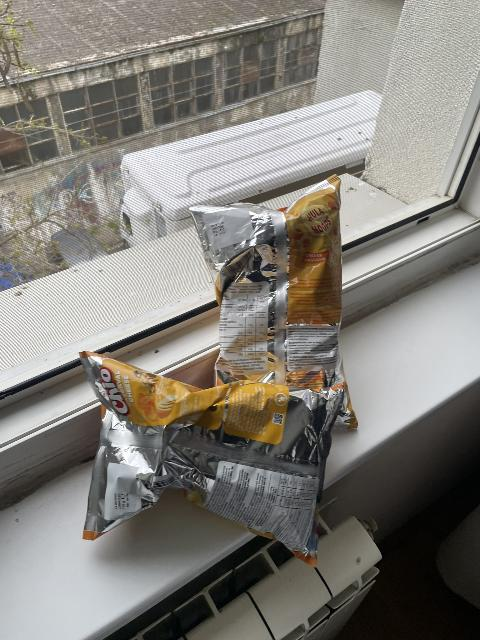Chio Cascaval 125g: (82, 317, 346, 566)
Chio Hula Hoops Cheese 70g: (189, 174, 362, 430)
